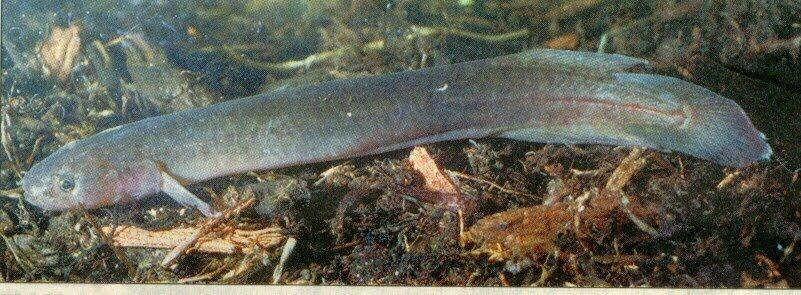Mudfish: (20, 41, 772, 217)
